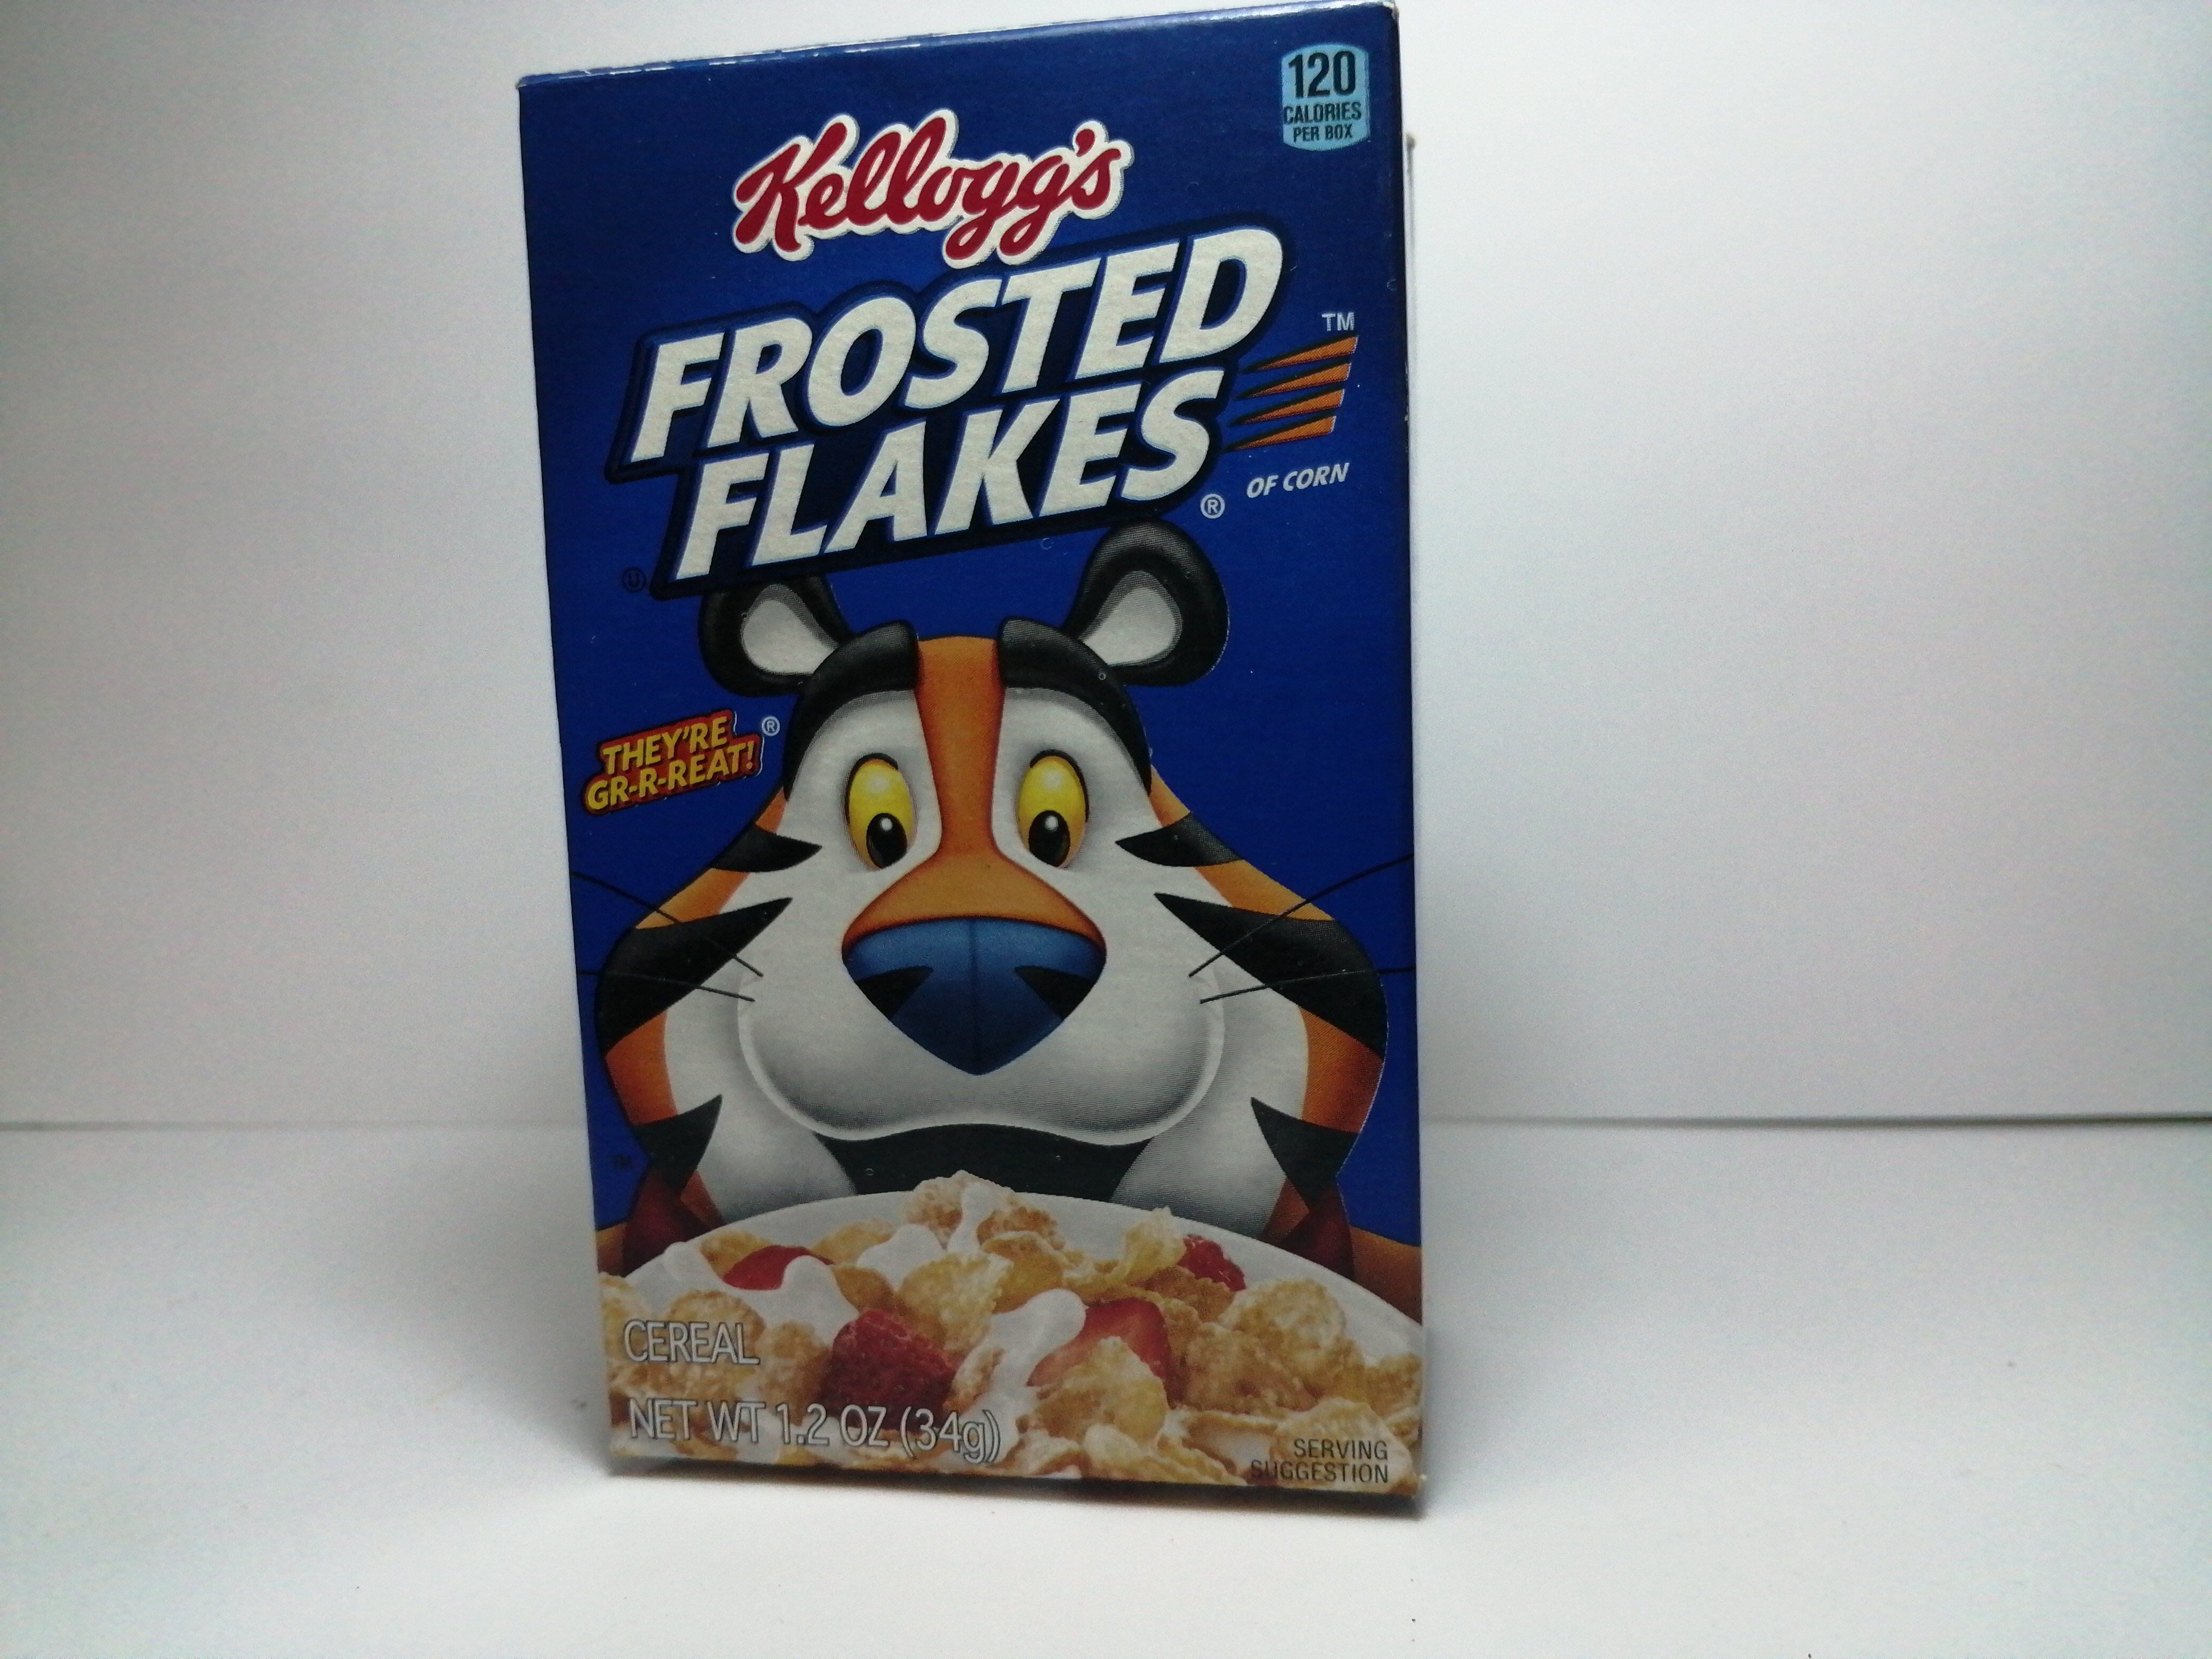cereal azucarado: (493, 0, 1487, 1511)
